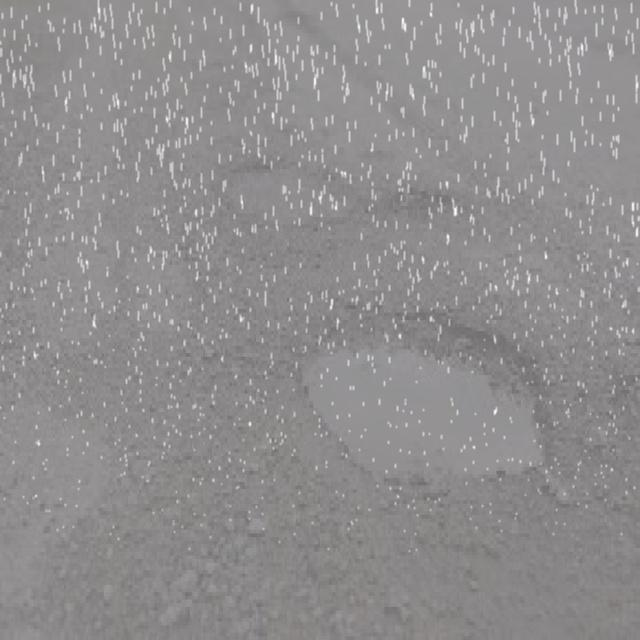Pothole: (269, 293, 559, 501), (211, 152, 360, 230), (388, 178, 454, 214)
